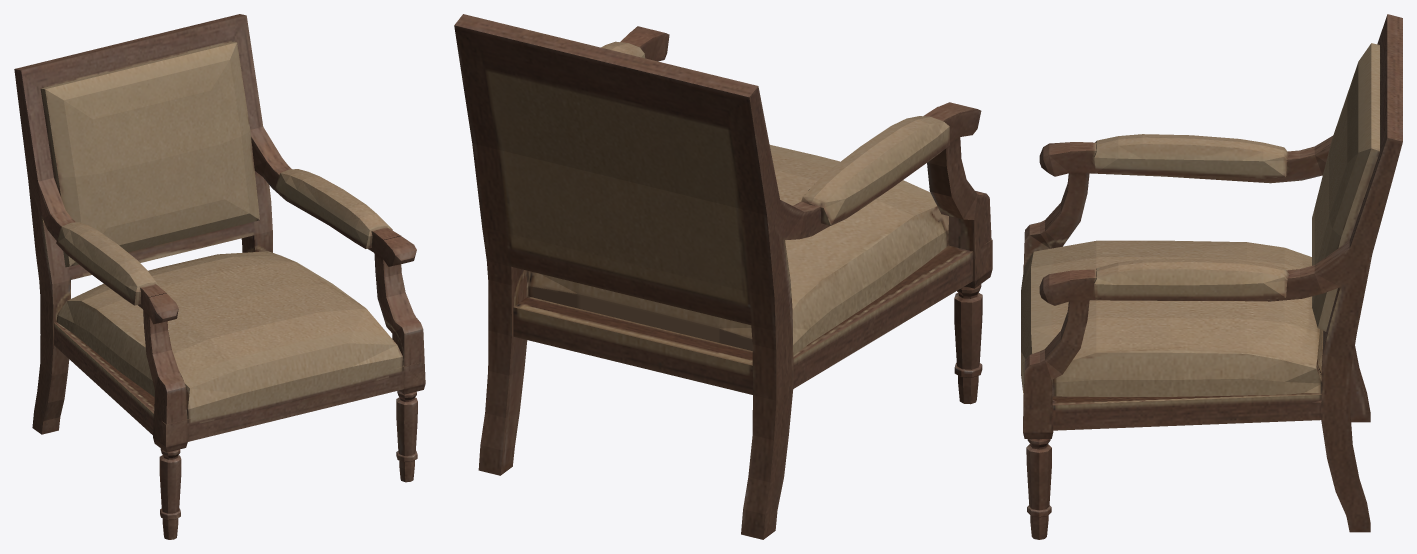
File: UpholsteredArmchair.fbx
3 views of the same model, side by side, from view 1: azimuth 30°, elevation 25°; view 2: azimuth 150°, elevation 25°; view 3: azimuth 270°, elevation 25° (orthographic). The views are drawn at different scales.
Visible parts, largest first — view 1: UpholsteredArmchair_Low; view 2: UpholsteredArmchair_Low; view 3: UpholsteredArmchair_Low.
Boxes of the visible parts, left/top/right/bottom form: UpholsteredArmchair_Low: left=14, top=14, right=425, bottom=539; UpholsteredArmchair_Low: left=454, top=14, right=992, bottom=539; UpholsteredArmchair_Low: left=1021, top=14, right=1402, bottom=539.
Bounding box in the file's own units: 0.7724 × 1 × 0.8745.
